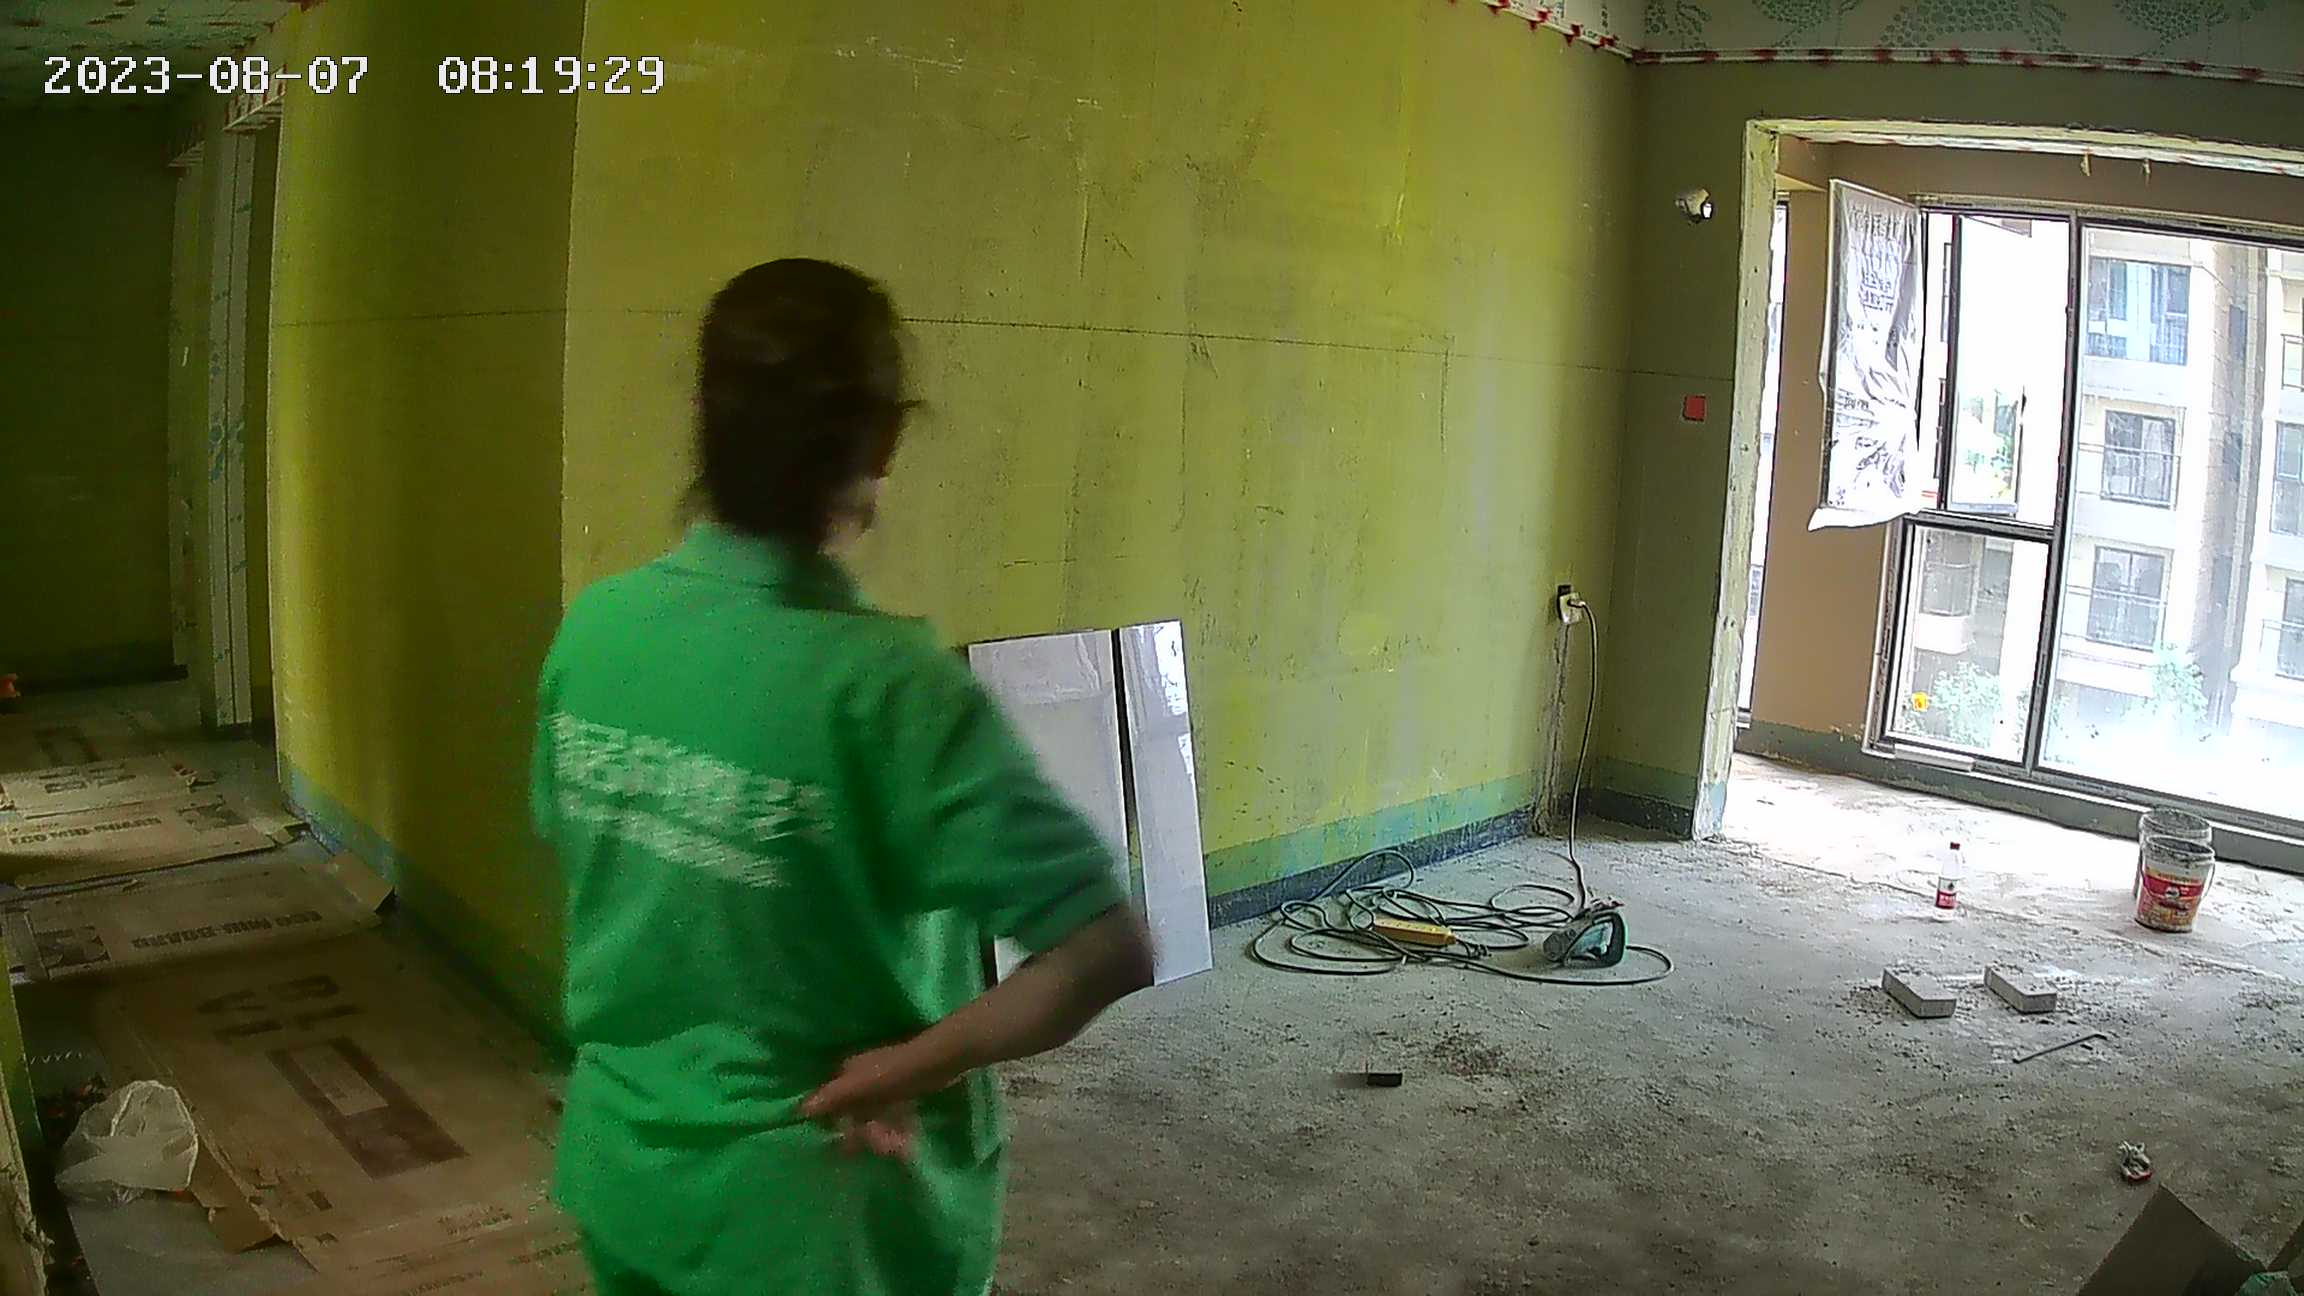people: (543, 262, 1122, 1296)
window: (1757, 121, 2304, 834)
